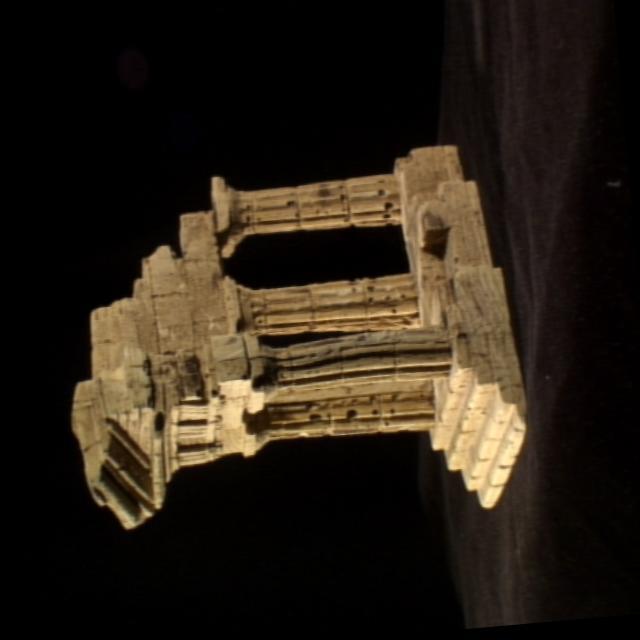Instance-Segmentation: (72, 146, 526, 528)
